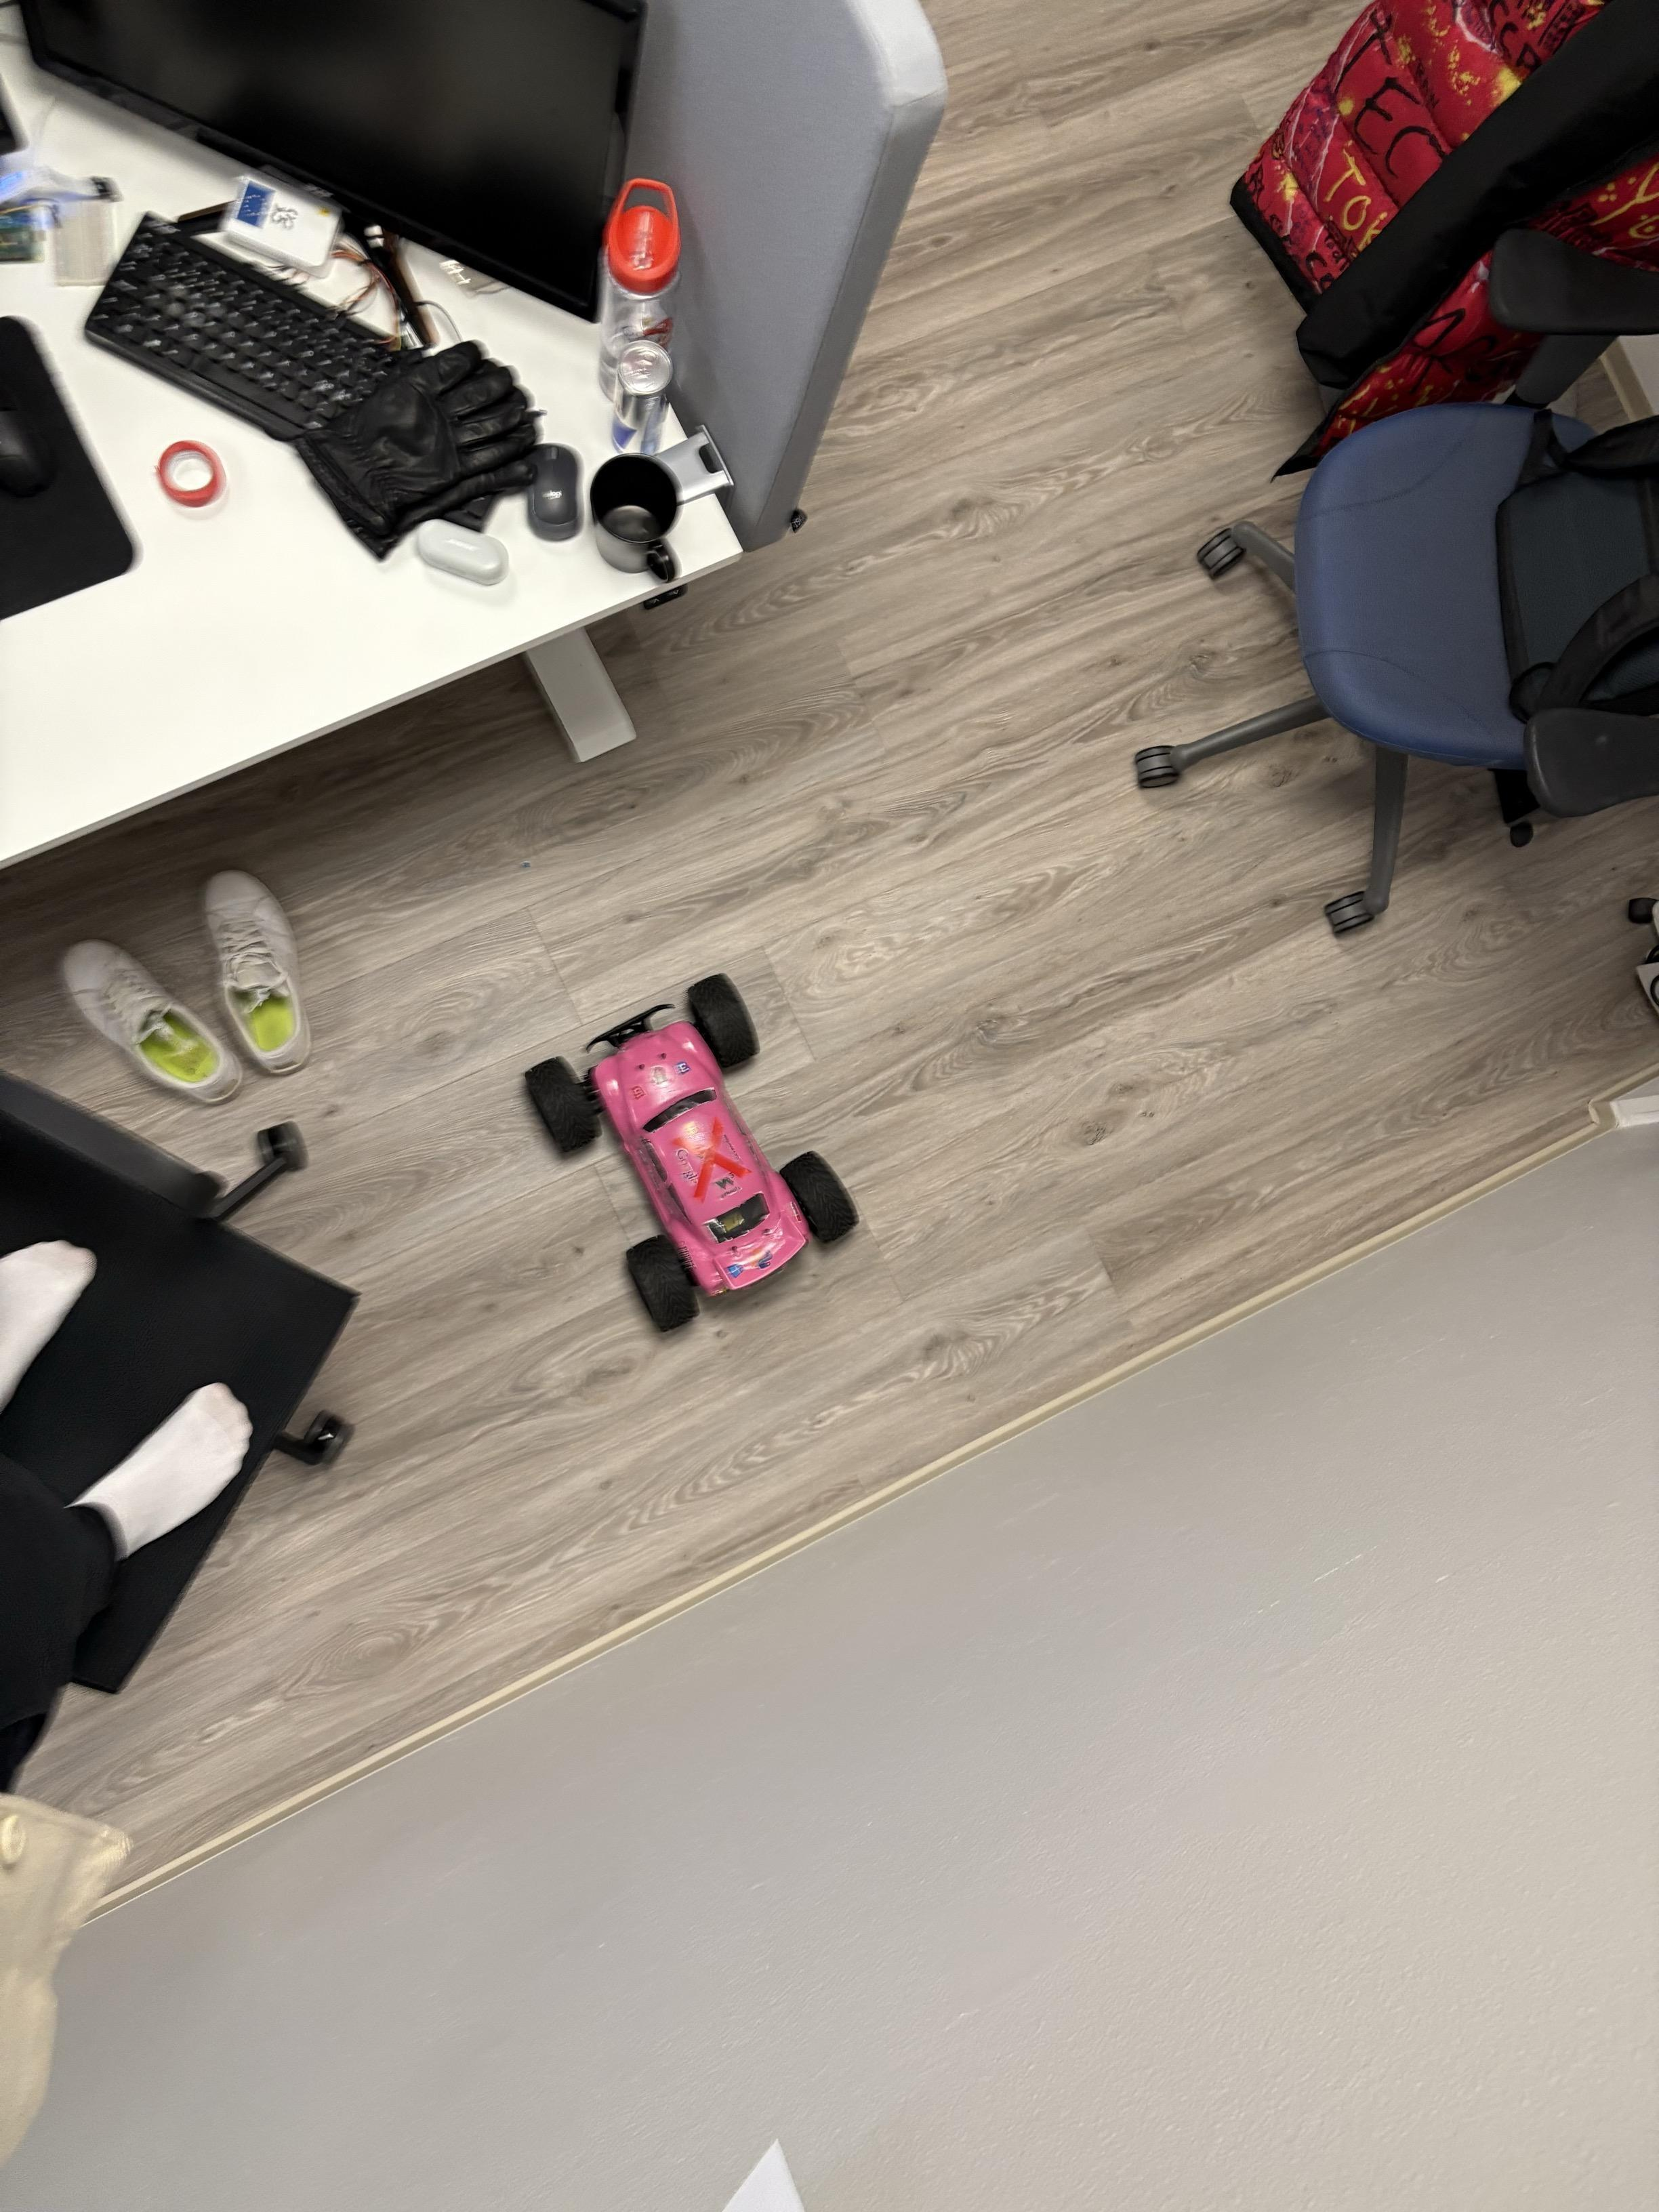Car: (495, 925, 901, 1386)
